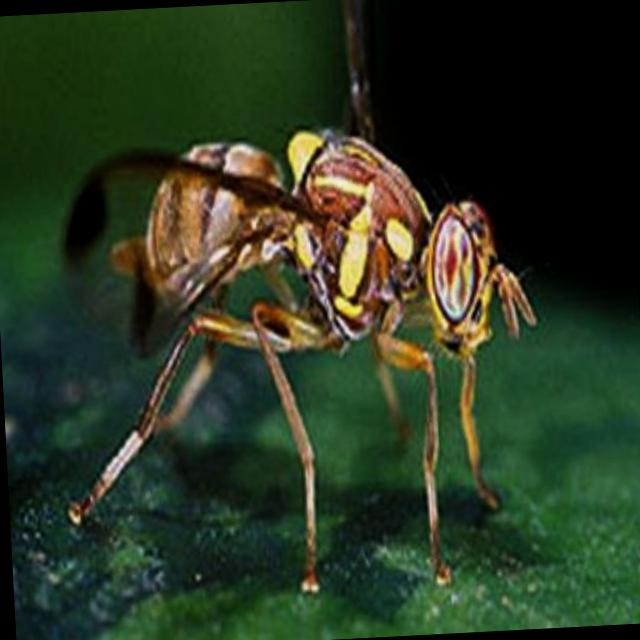melon fly: (75, 74, 578, 558)
